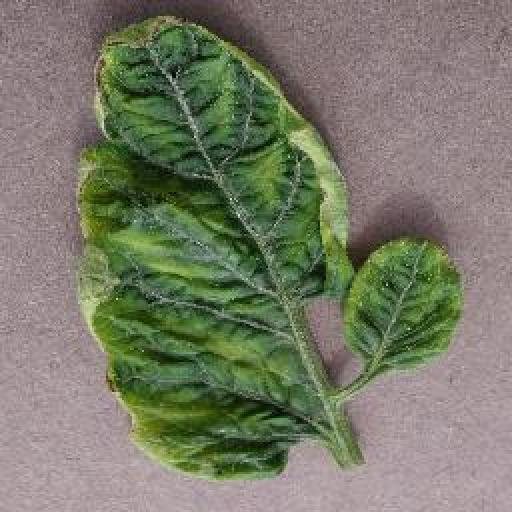Yellow Leaf Curl Virus: (68, 12, 354, 485), (339, 238, 468, 366)
